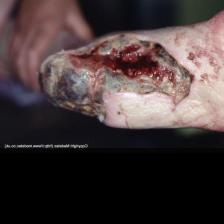Wound: (42, 33, 202, 129)
